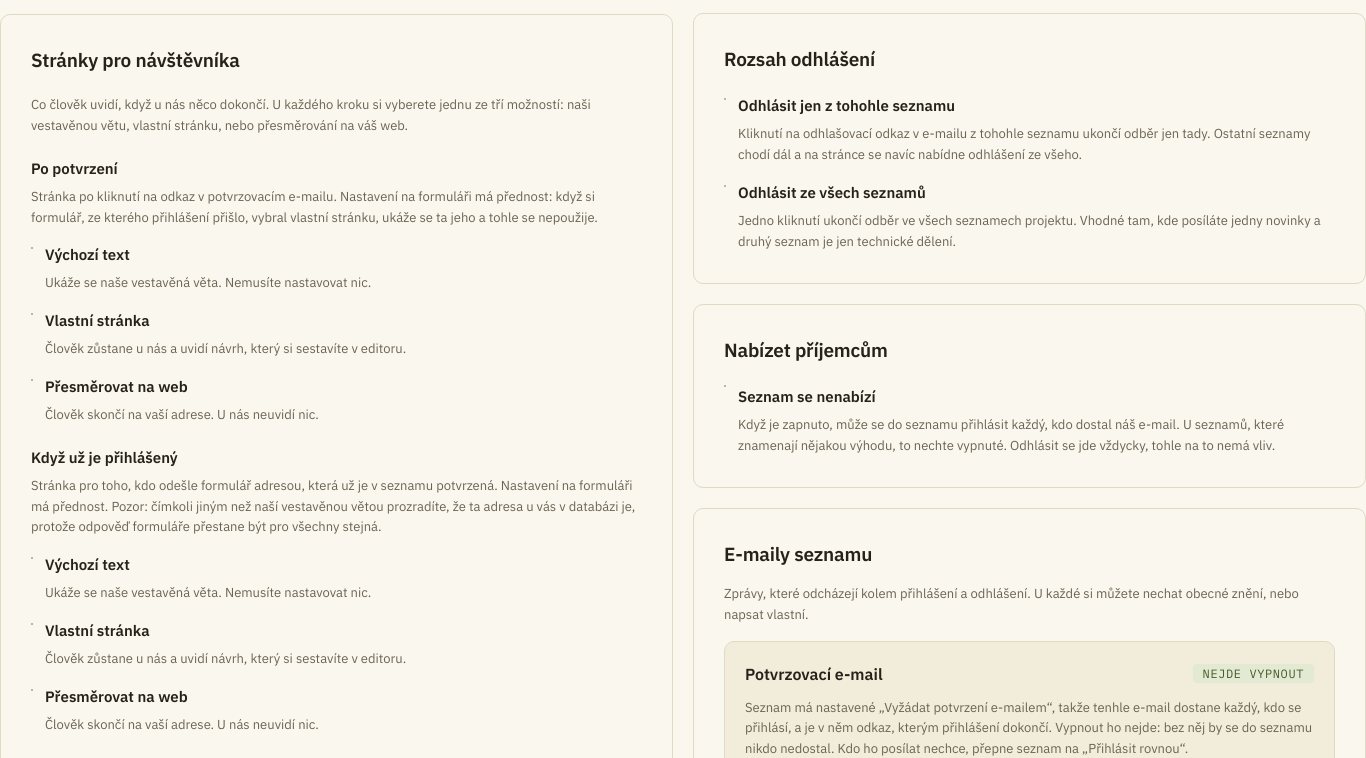
veřejné nabízení seznamu › zapnutí se uloží a teprve pak se ptá na veřejný název
(page scrolled)
Click the switch with test id "list-public-visible" at (725, 386), box [724,385,726,387]
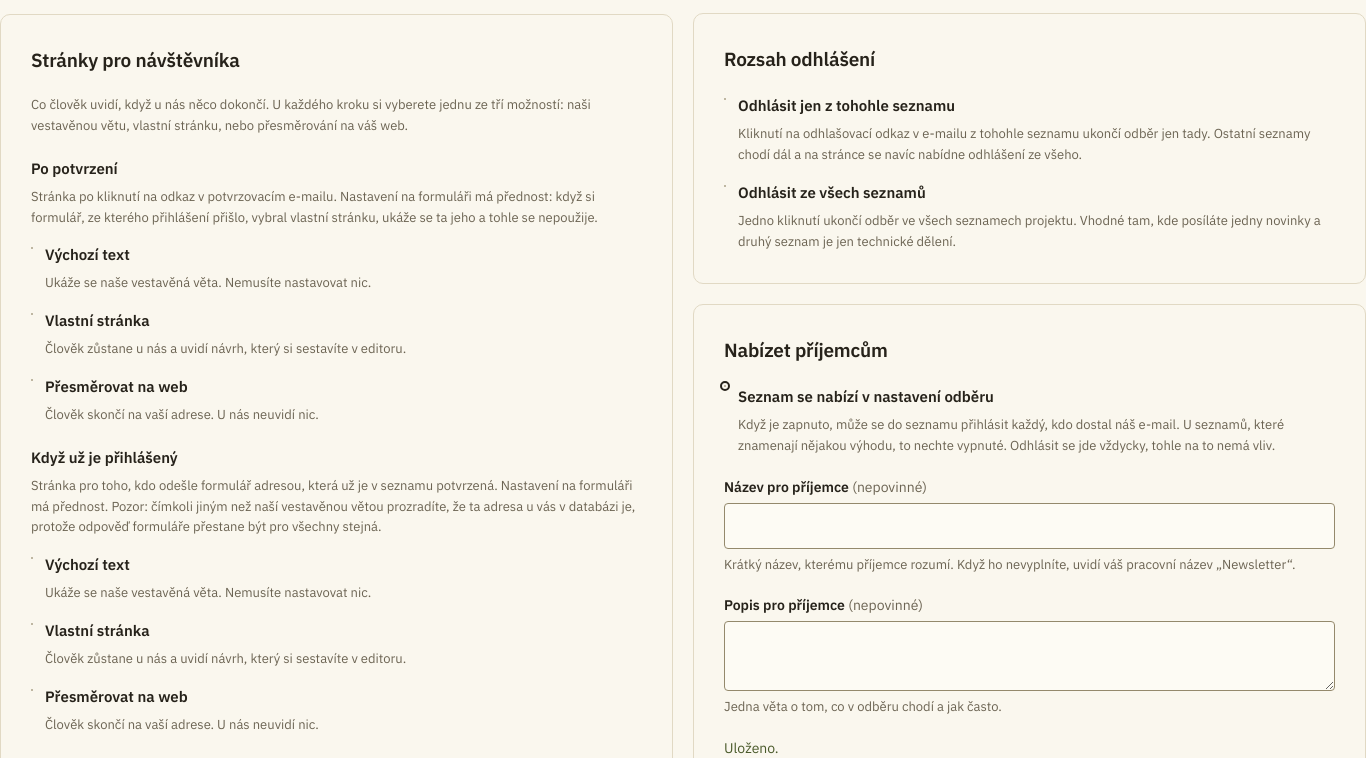
Expected: the field with test id "list-public-name" is shown, [724,502,1335,548]
